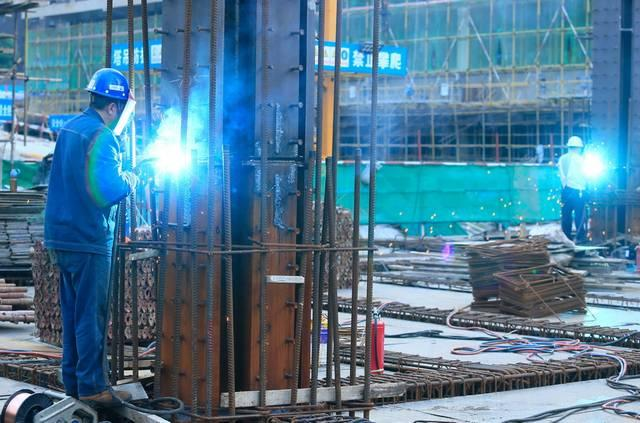helmet: (87, 66, 137, 107), (564, 134, 585, 152)
